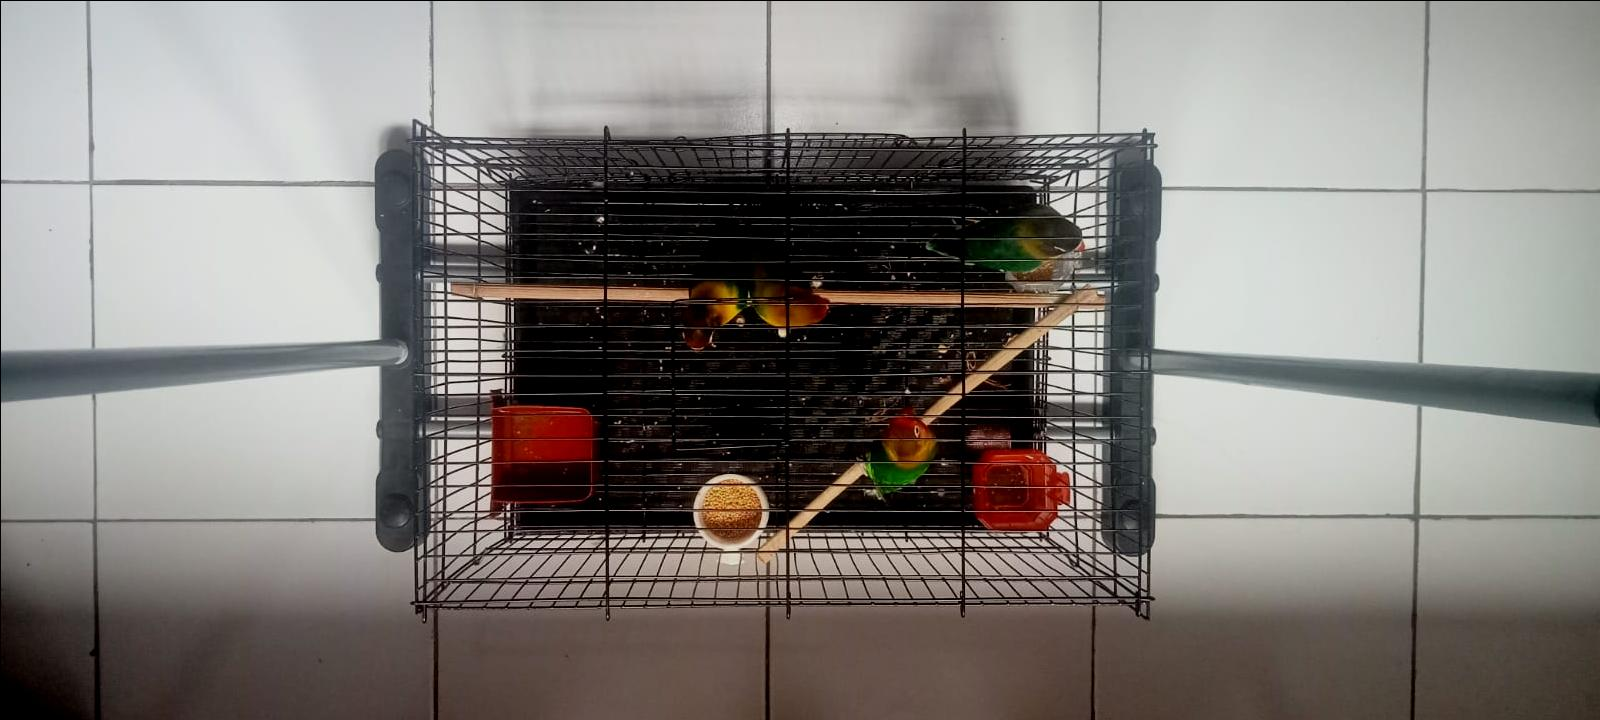LoveBird: (926, 204, 1085, 271), (682, 209, 746, 352), (743, 223, 831, 326), (866, 405, 935, 503)
